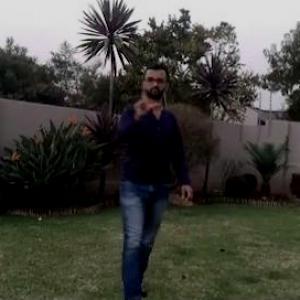land_hand: (127, 77, 159, 120)
